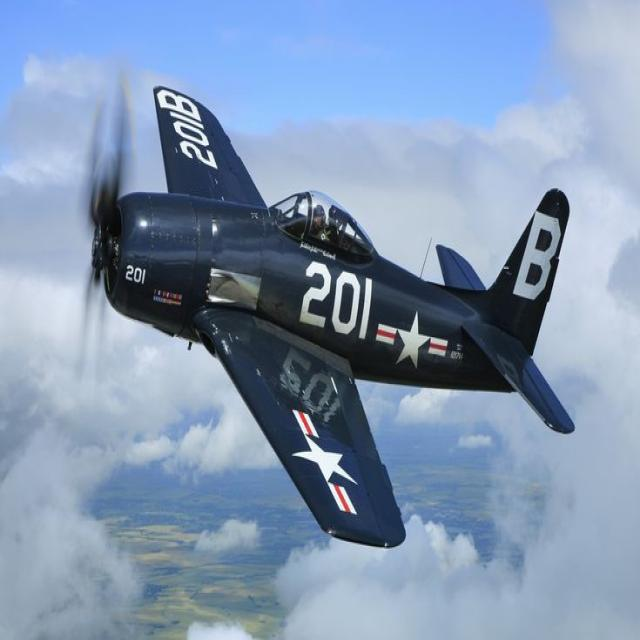iha: (68, 72, 572, 553)
